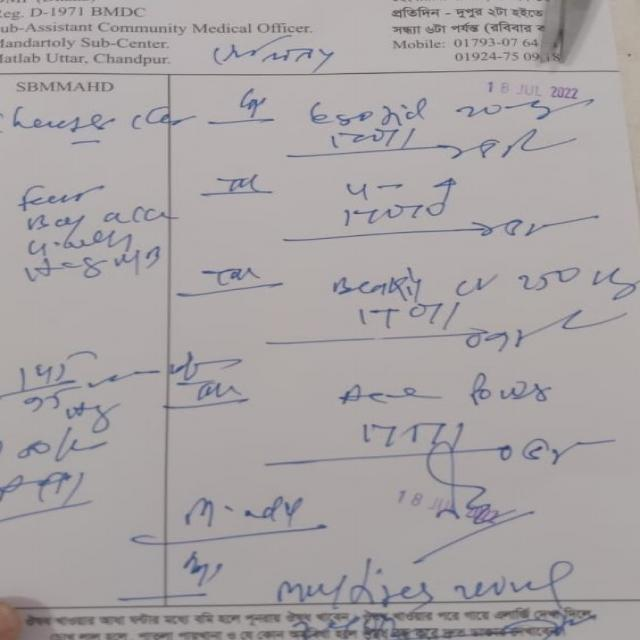Ace: (323, 376, 453, 412)
Diasulin: (345, 173, 465, 203)
Esonix: (294, 94, 438, 131)
